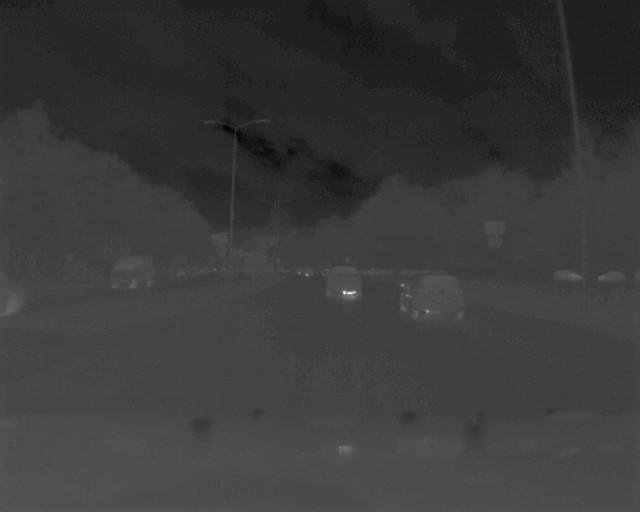car: (396, 272, 469, 324), (109, 255, 154, 293), (324, 262, 364, 301)
